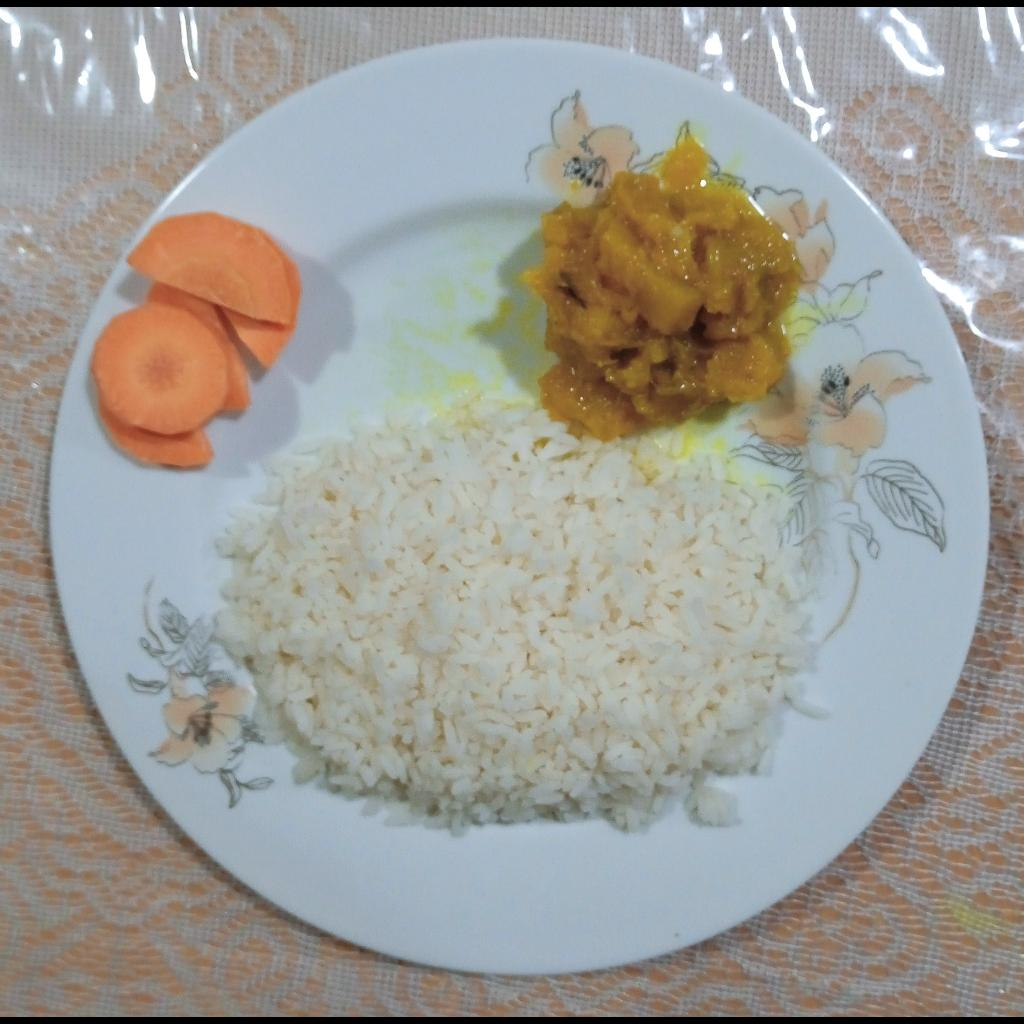carrot: (88, 210, 302, 467)
kumra-vaji: (521, 142, 804, 440)
rice: (208, 399, 825, 825)
